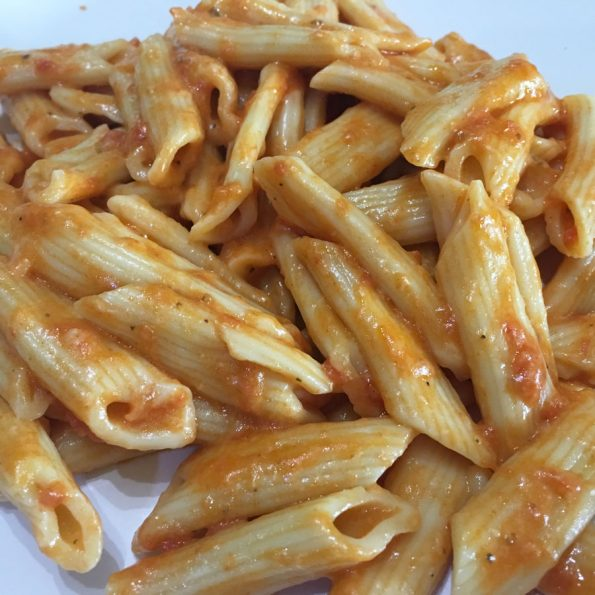plain spaghetti: (48, 81, 576, 555)
